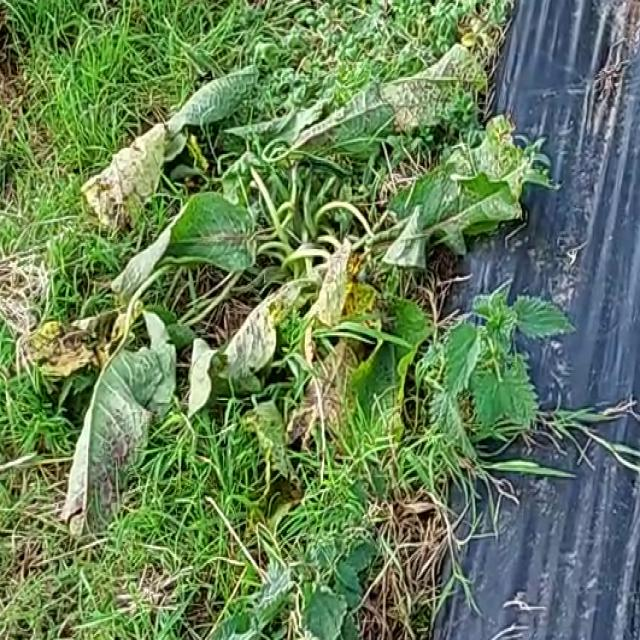organic waste: (60, 47, 539, 545)
